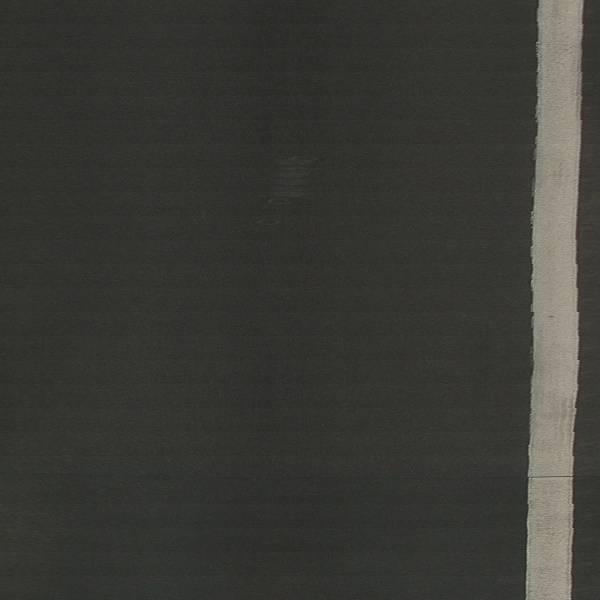road_damage: (252, 147, 321, 233)
